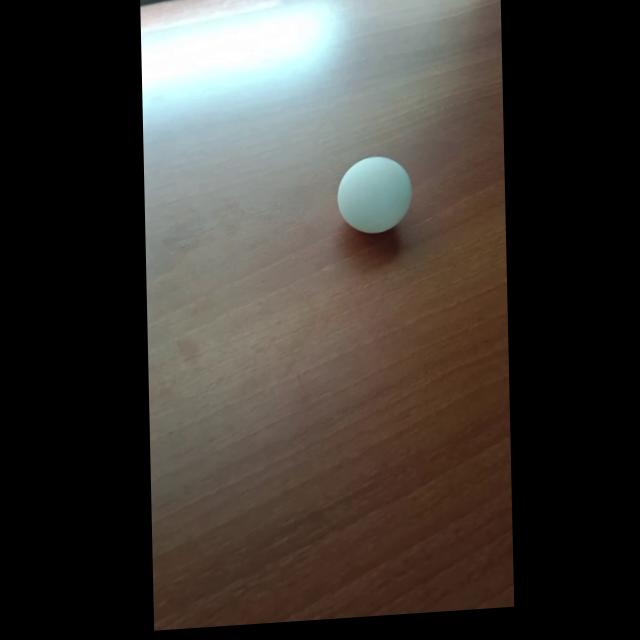white ball: (336, 153, 414, 236)
